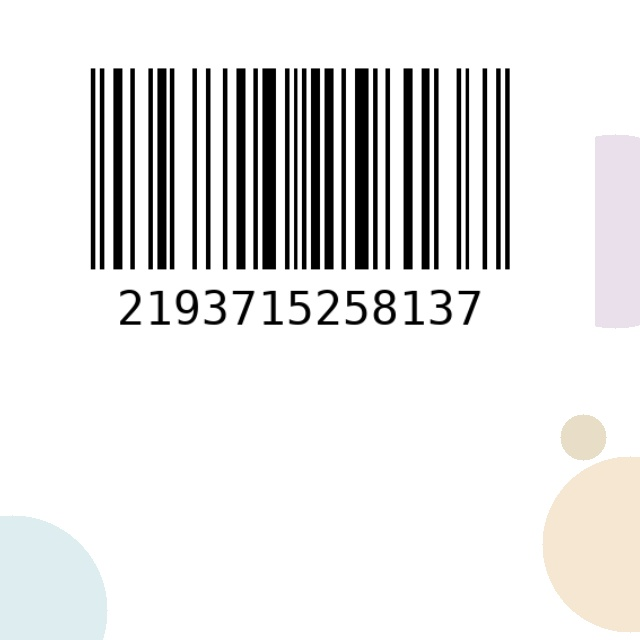barcode: (5, 56, 595, 372)
